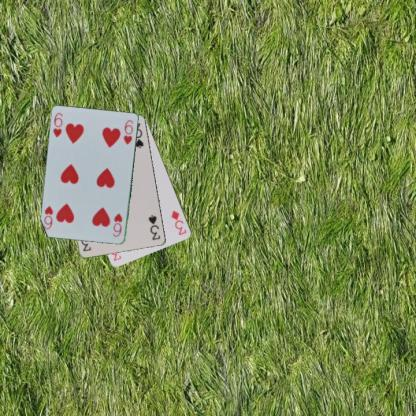3d: (168, 208, 187, 236)
3s: (146, 212, 162, 242)
6h: (110, 211, 124, 238), (51, 110, 64, 139)
